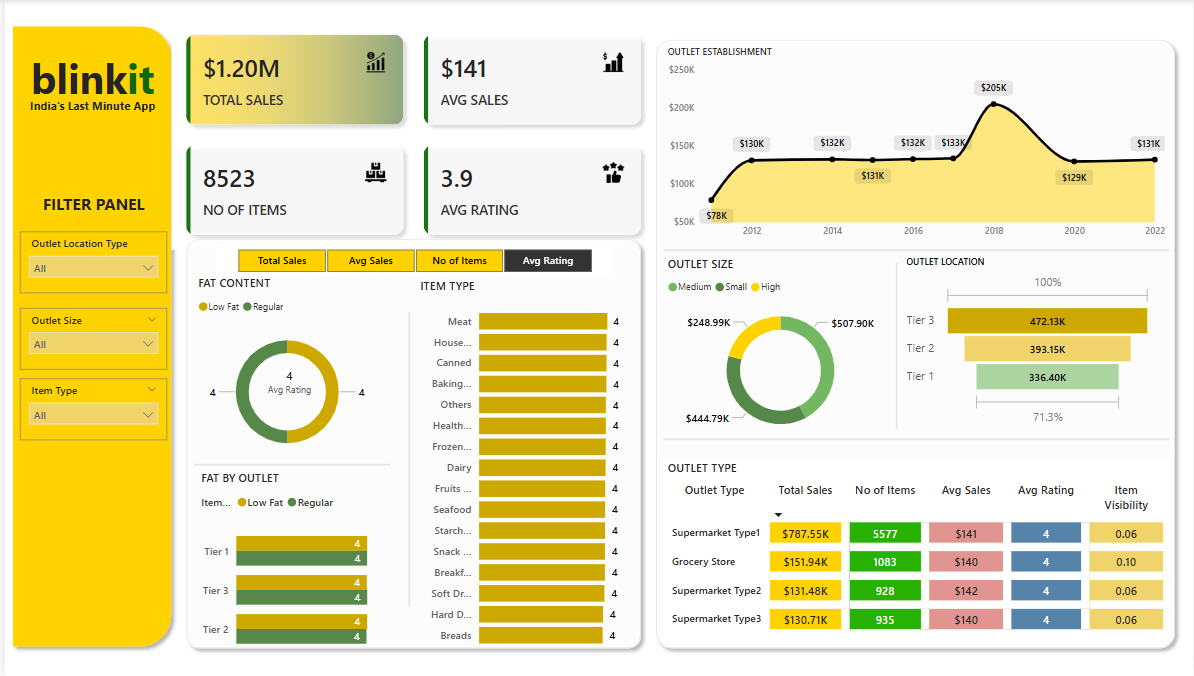

The dashboard page shown, as its layout file describes it:
{"tool":"powerbi","page":{"name":"Page 1","canvas":[1400,800],"ordinal":0},"visuals":[{"type":"shape","box":[0,31.8,205,749.4],"z":0},{"type":"textbox","box":[19.4,54.8,167.9,74.2],"z":1000},{"type":"textbox","box":[17.7,111.3,171.4,33.6],"z":2000},{"type":"cardVisual","fields":{"Data":["BlinkIT Grocery Data.Total Sales","BlinkIT Grocery Data.Avg Sales","BlinkIT Grocery Data.No of Items","BlinkIT Grocery Data.Avg Rating"]},"box":[196.2,24.7,570.9,270.4],"z":3000},{"type":"shape","box":[205,273.9,553.2,500.2],"z":4000},{"type":"donutChart","title":"FAT CONTENT","fields":{"Y":["BlinkIT Grocery Data.Avg Rating"],"Category":["BlinkIT Grocery Data.Item Fat Content"]},"box":[226.2,325.2,219.2,229.8],"z":5000},{"type":"slicer","fields":{"Values":["Metrics.Metrics"]},"box":[250,288,466,40],"z":6000},{"type":"cardVisual","fields":{"Data":["BlinkIT Grocery Data.Avg Rating"]},"box":[286.3,415.3,99,70.7],"z":7000},{"type":"clusteredBarChart","title":"FAT BY OUTLET","fields":{"Y":["BlinkIT Grocery Data.Avg Rating"],"Category":["BlinkIT Grocery Data.Outlet Location Type"],"Series":["BlinkIT Grocery Data.Item Fat Content"]},"box":[226.2,554.9,219.2,229.8],"z":8000},{"type":"shape","box":[222.7,542.6,231.5,12.4],"z":9000},{"type":"shape","box":[470.1,369.4,12.4,346.4],"z":10000},{"type":"barChart","title":"ITEM TYPE","fields":{"Y":["BlinkIT Grocery Data.Avg Rating"],"Category":["BlinkIT Grocery Data.Item Type"]},"box":[484.3,328.7,243.9,445.4],"z":11000},{"type":"shape","box":[758.2,38.9,629.2,735.2],"z":12000},{"type":"lineChart","title":"OUTLET ESTABLISHMENT","fields":{"Category":["BlinkIT Grocery Data.Outlet Establishment Year"],"Y":["BlinkIT Grocery Data.Total Sales"]},"box":[775.9,54.8,595.6,235.1],"z":13000},{"type":"shape","box":[775.9,289.8,595.6,12.4],"z":14000},{"type":"donutChart","title":"OUTLET SIZE","fields":{"Y":["BlinkIT Grocery Data.Total Sales"],"Category":["BlinkIT Grocery Data.Outlet Size"]},"box":[775.9,302.2,275,225],"z":15000},{"type":"shape","box":[1044.5,311.1,12.4,196.2],"z":16000},{"type":"funnel","title":"OUTLET LOCATION","fields":{"Category":["BlinkIT Grocery Data.Outlet Location Type"],"Y":["Sum(BlinkIT Grocery Data.Sales)"]},"box":[1056.9,302.2,298.7,205],"z":17000},{"type":"shape","box":[775.9,512.5,595.6,12.4],"z":18000},{"type":"pivotTable","title":"OUTLET TYPE","fields":{"Rows":["BlinkIT Grocery Data.Outlet Type"],"Values":["BlinkIT Grocery Data.Total Sales","BlinkIT Grocery Data.No of Items","BlinkIT Grocery Data.Avg Sales","BlinkIT Grocery Data.Avg Rating","Avg(BlinkIT Grocery Data.Item Visibility)"]},"box":[775.9,542.6,595.6,212.1],"z":19000},{"type":"slicer","fields":{"Values":["BlinkIT Grocery Data.Outlet Location Type"]},"box":[17.7,273.9,173.2,72.5],"z":20000},{"type":"slicer","fields":{"Values":["BlinkIT Grocery Data.Outlet Size"]},"box":[17.7,364.1,173.2,72.5],"z":21000},{"type":"slicer","fields":{"Values":["BlinkIT Grocery Data.Item Type"]},"box":[17.7,447.1,173.2,72.5],"z":22000},{"type":"textbox","box":[26.5,222.7,160.8,37.1],"z":23000}]}

Visuals, with their boxes in screenshot pixels (x1, y1, x2, y2), scaled from the page's 1400x800 canvas onto the 1194x676 screenshot:
shape: crop(0, 27, 175, 660)
textbox: crop(17, 46, 160, 109)
textbox: crop(15, 94, 161, 122)
cardVisual - BlinkIT Grocery Data.Total Sales x BlinkIT Grocery Data.Avg Sales: crop(167, 21, 654, 249)
shape: crop(175, 231, 647, 654)
"FAT CONTENT" donutChart: crop(193, 275, 380, 469)
slicer - Metrics.Metrics: crop(213, 243, 611, 277)
cardVisual - BlinkIT Grocery Data.Avg Rating: crop(244, 351, 329, 411)
"FAT BY OUTLET" clusteredBarChart: crop(193, 469, 380, 663)
shape: crop(190, 458, 387, 469)
shape: crop(401, 312, 412, 605)
"ITEM TYPE" barChart: crop(413, 278, 621, 654)
shape: crop(647, 33, 1183, 654)
"OUTLET ESTABLISHMENT" lineChart: crop(662, 46, 1170, 245)
shape: crop(662, 245, 1170, 255)
"OUTLET SIZE" donutChart: crop(662, 255, 896, 445)
shape: crop(891, 263, 901, 429)
"OUTLET LOCATION" funnel: crop(901, 255, 1156, 429)
shape: crop(662, 433, 1170, 444)
"OUTLET TYPE" pivotTable: crop(662, 458, 1170, 638)
slicer - BlinkIT Grocery Data.Outlet Location Type: crop(15, 231, 163, 293)
slicer - BlinkIT Grocery Data.Outlet Size: crop(15, 308, 163, 369)
slicer - BlinkIT Grocery Data.Item Type: crop(15, 378, 163, 439)
textbox: crop(23, 188, 160, 220)
